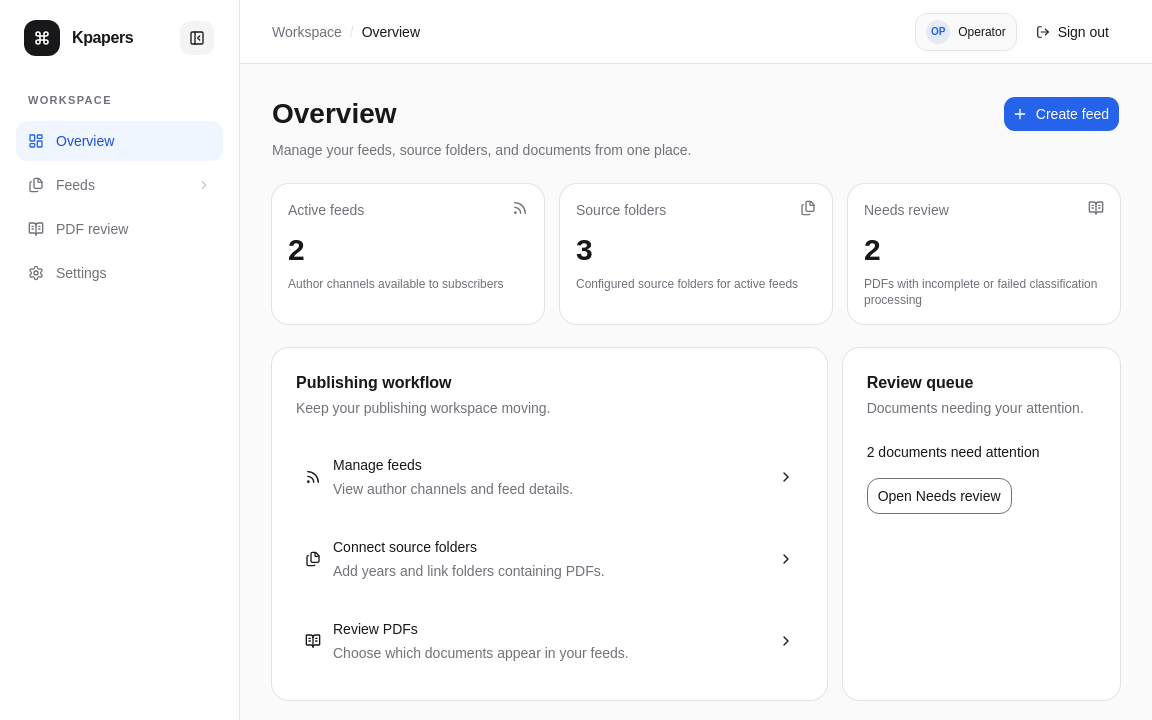
operator session and dashboard shell › navigates between dashboard sections and signs out
Expected: the heading "Overview" is shown, [272,98,396,129]
Click the button "Feeds" at [120, 184], box [16,164,223,204]
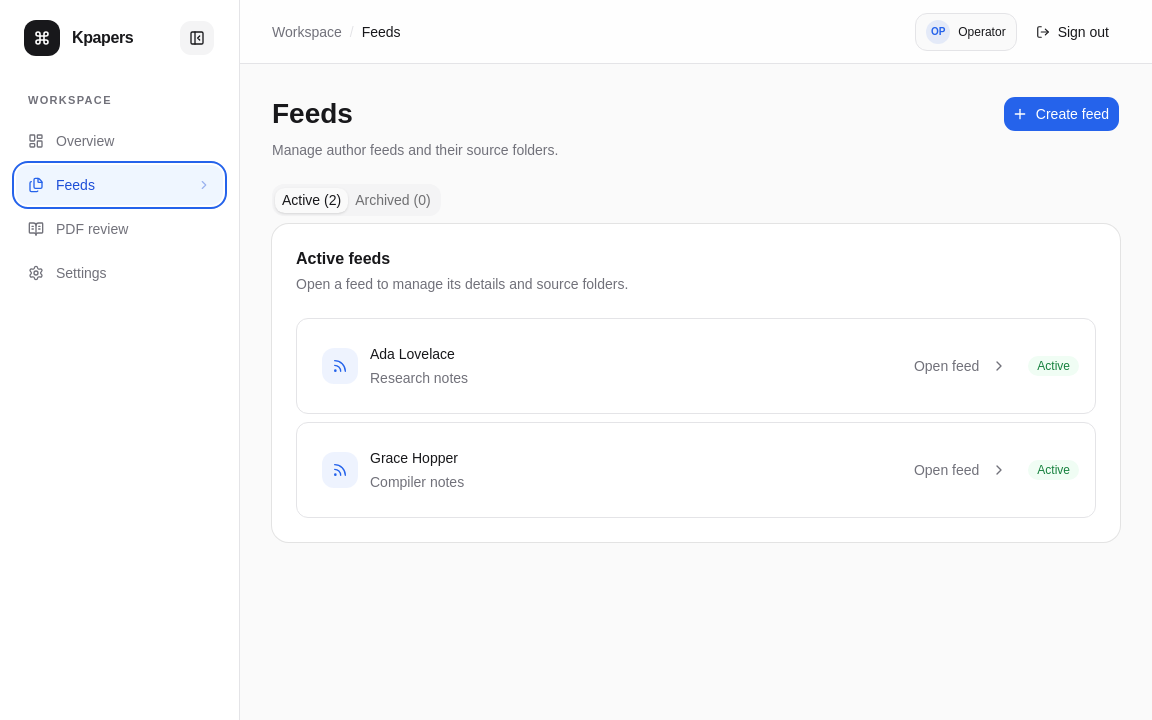
Expected: the heading "Feeds" is shown, [272,98,353,129]
Click the button "PDF review" at [120, 228], box [16,208,223,248]
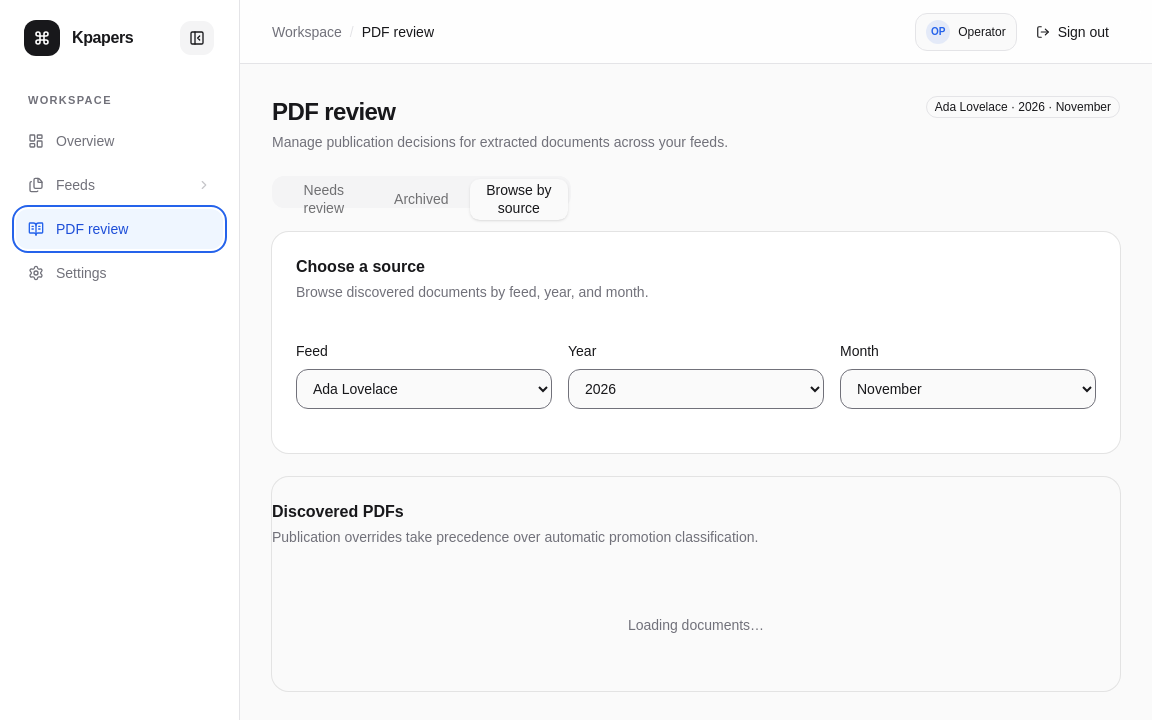
Expected: the text "Ada Lovelace · 2026 · November" is shown, [926,96,1120,118]
Click the button "Sign out" at [1072, 32], box [1025,14,1120,50]
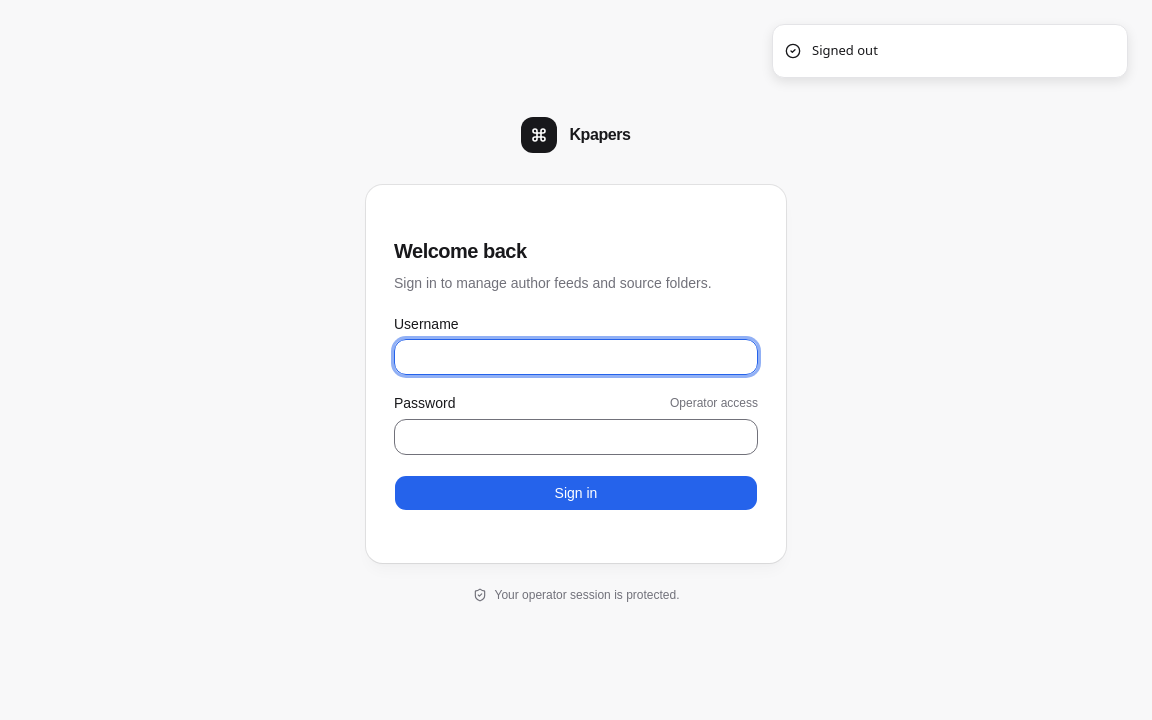
Expected: the heading "Welcome back" is shown, [394,240,527,262]
